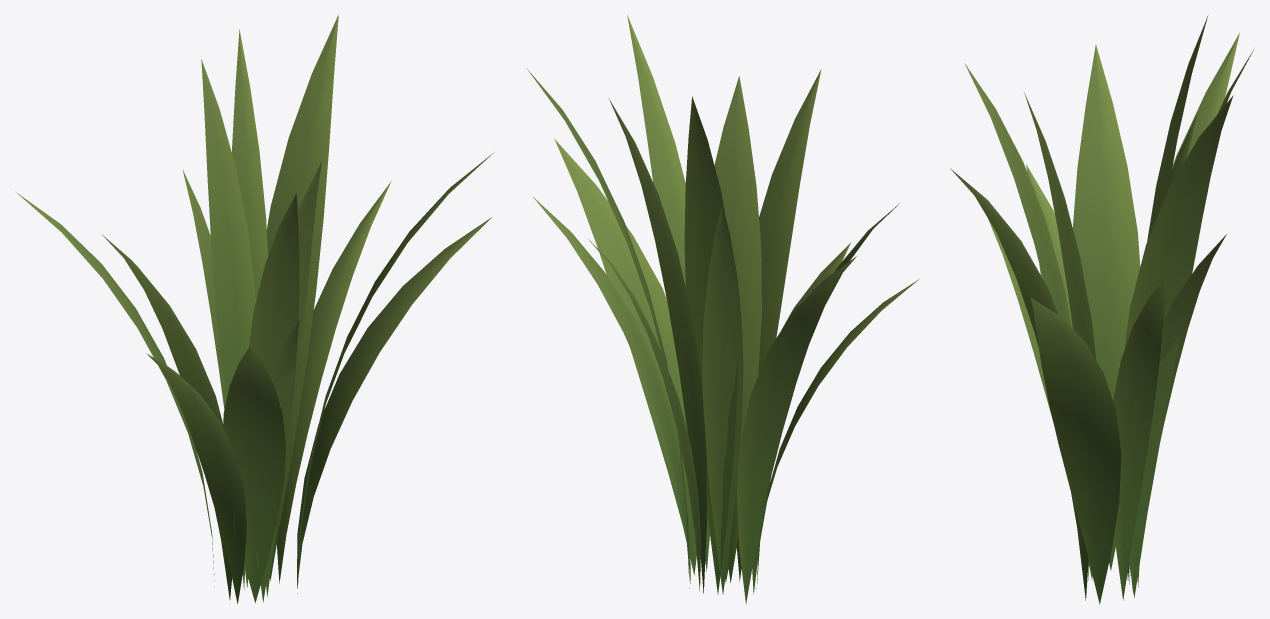
Rendered from coastal-grass.glb.
3 views of the same model, side by side, from view 1: azimuth 30°, elevation 25°; view 2: azimuth 150°, elevation 25°; view 3: azimuth 270°, elevation 25° (orthographic). The views are drawn at different scales.
Parts seen in each view (by area): view 1: painted-foliage; view 2: painted-foliage; view 3: painted-foliage.
Boxes of the visible parts, box(x1,y1,x2,y2) form: painted-foliage: box(15, 14, 494, 603); painted-foliage: box(526, 15, 918, 604); painted-foliage: box(950, 15, 1253, 604).
Bounding box in the file's own units: 1.24 × 1.56 × 0.7668.
